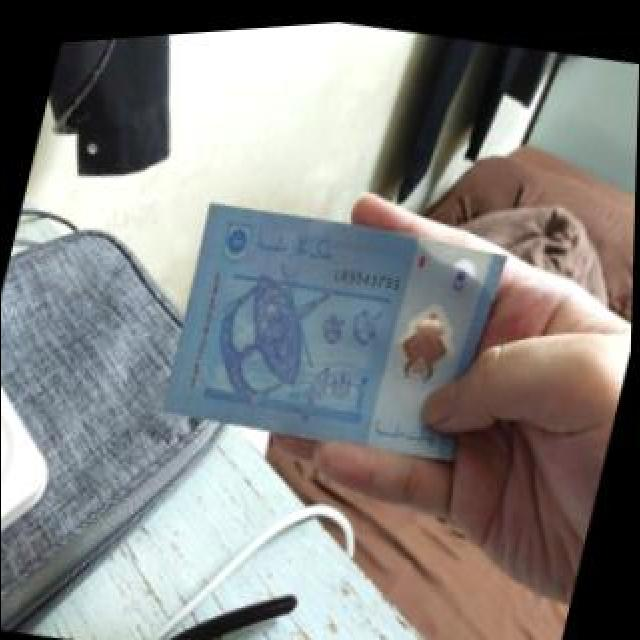1 Ringgit: (157, 172, 522, 485)
